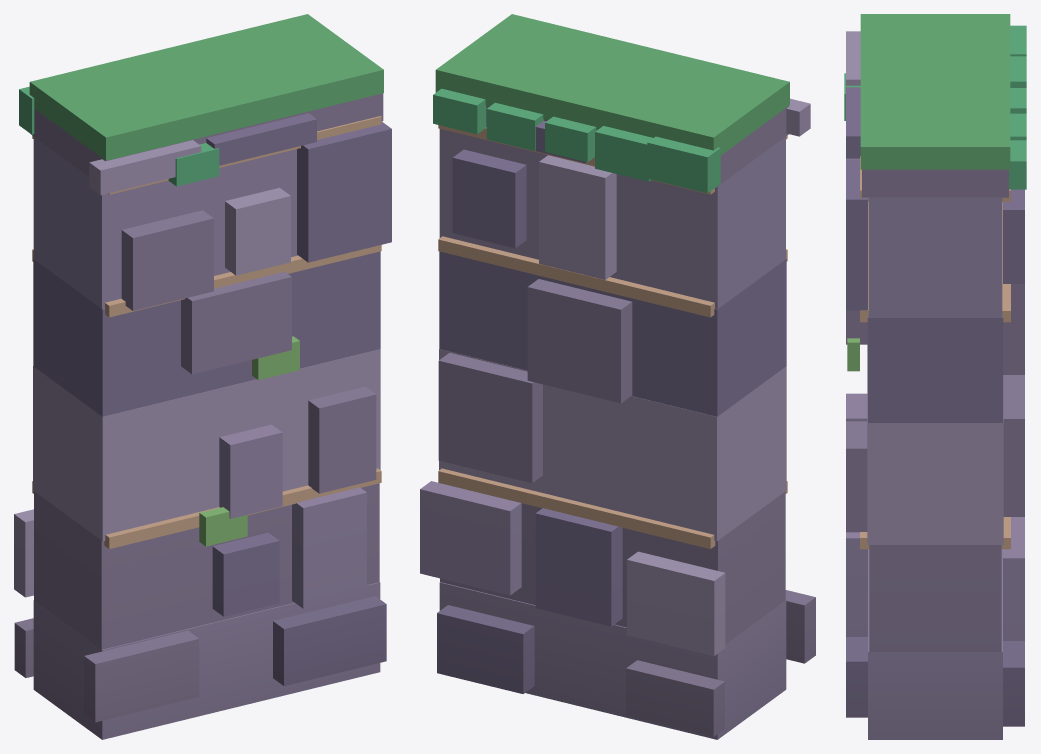
Rendered from cliff-2m-h4.glb.
The picture shows the model from 3 angles, left to right: view 1: azimuth 30°, elevation 25°; view 2: azimuth 150°, elevation 25°; view 3: azimuth 270°, elevation 25°; orthographic projection. The views are drawn at different scales.
Parts seen in each view (by area): view 1: cliff-2m-h4_body; view 2: cliff-2m-h4_body; view 3: cliff-2m-h4_body.
Boxes of the visible parts, bbox=[...] form: cliff-2m-h4_body: bbox=[14, 14, 391, 739]; cliff-2m-h4_body: bbox=[420, 14, 815, 739]; cliff-2m-h4_body: bbox=[844, 14, 1026, 739].
Size of the model in its own units: 2.19 by 4.16 by 1.16.
